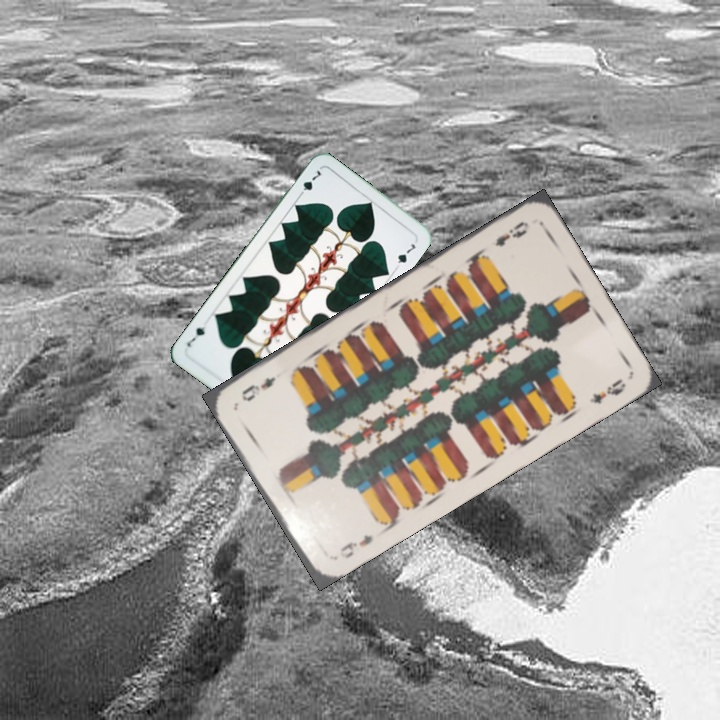E9: (335, 530, 376, 562), (491, 217, 531, 249)
G7: (294, 166, 323, 200)
